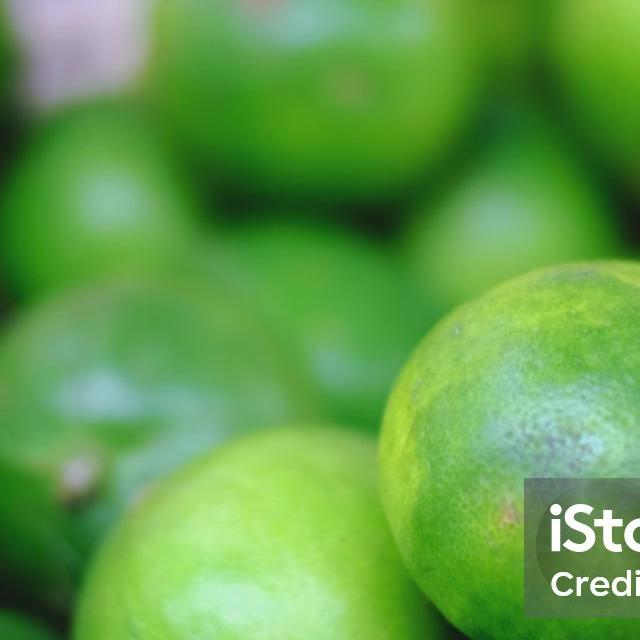lime: (366, 258, 640, 640)
